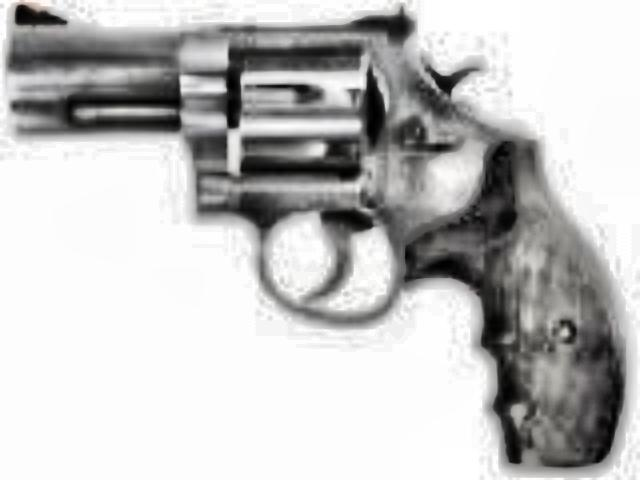pistol: (8, 0, 620, 472)
